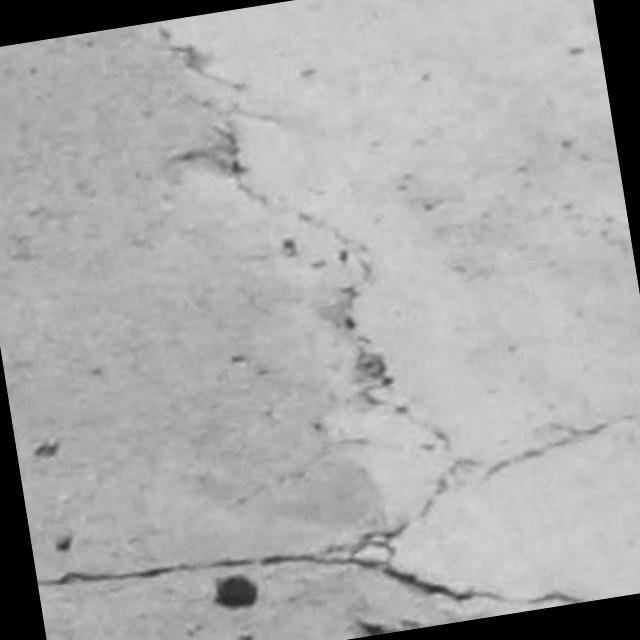crack: (37, 528, 585, 606), (483, 413, 639, 480), (158, 27, 245, 91)
